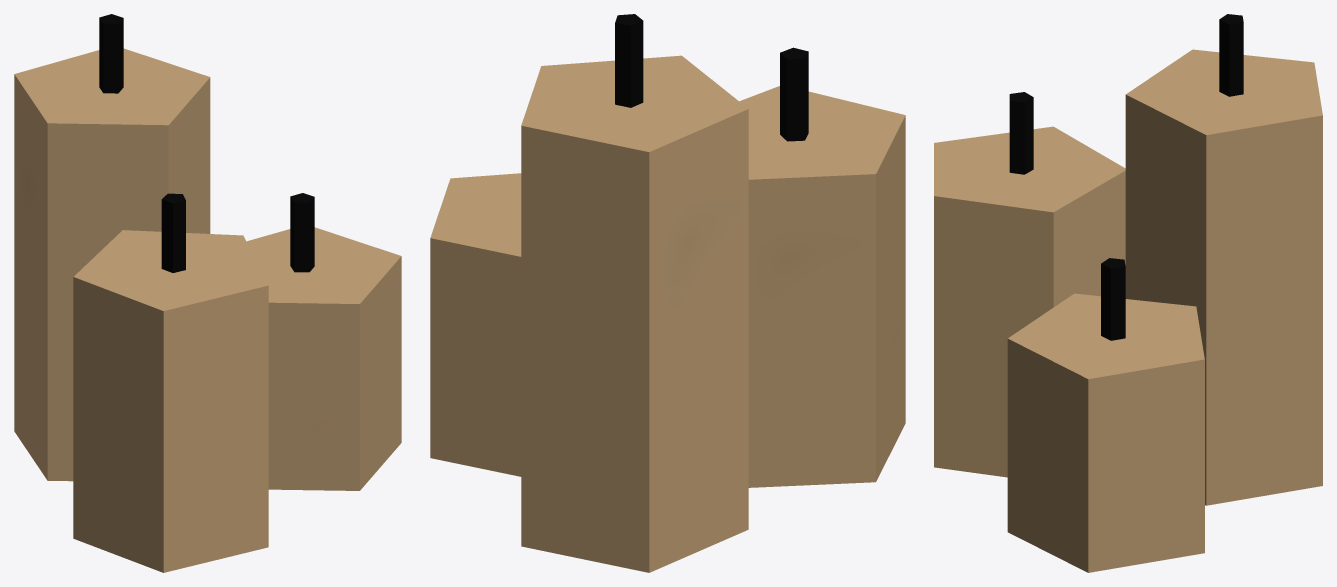
The model's file is Candle_set.fbx.
3 views of the same model, side by side, from view 1: azimuth 30°, elevation 25°; view 2: azimuth 150°, elevation 25°; view 3: azimuth 270°, elevation 25° (orthographic). The views are drawn at different scales.
Parts seen in each view (by area): view 1: Swiece; view 2: Swiece; view 3: Swiece.
Boxes of the visible parts, x1,y1,x2,y2 form: Swiece: [14, 14, 401, 572]; Swiece: [430, 14, 905, 572]; Swiece: [934, 14, 1322, 572].
Bounding box in the file's own units: 22.08 × 26.13 × 20.8.
Materials: 1 (1 with a texture image).
